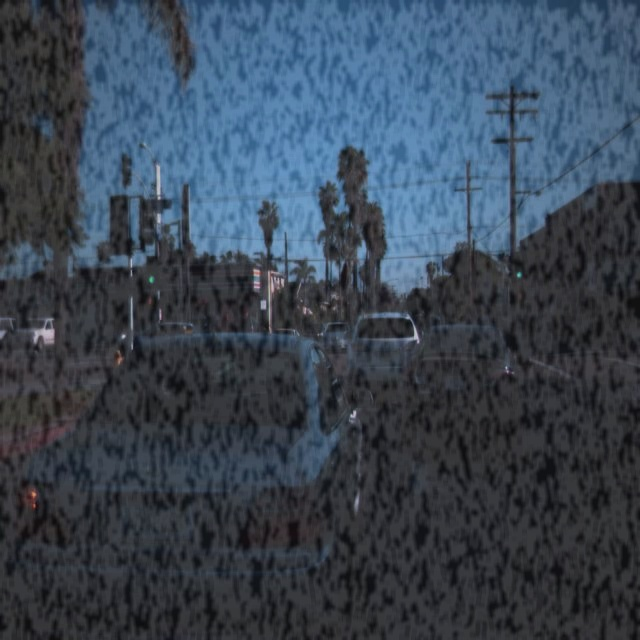go: (146, 259, 156, 285), (514, 260, 524, 280)
go traffic light: (146, 259, 156, 285), (514, 260, 524, 280)
